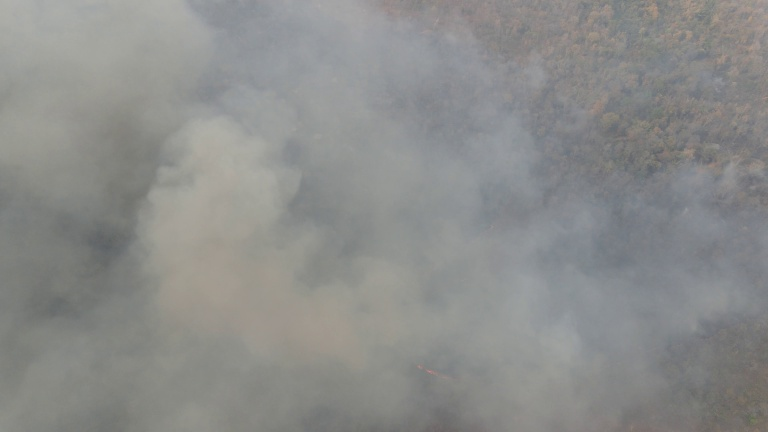fire: (410, 353, 463, 388)
smoke: (1, 19, 651, 432)
